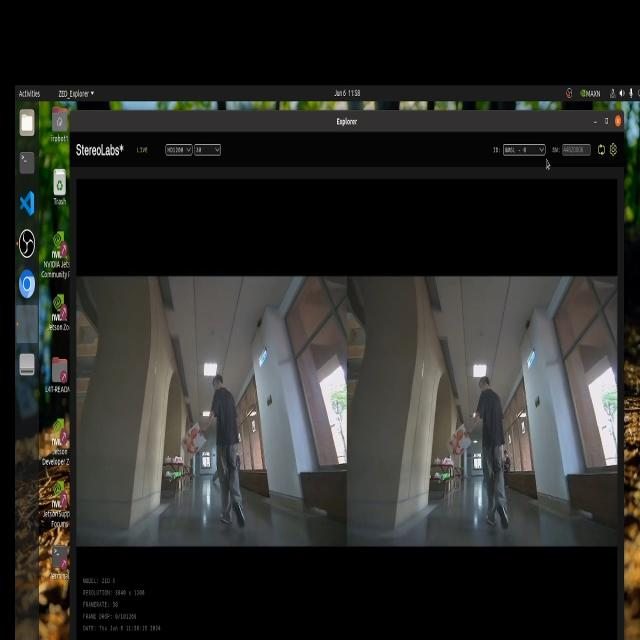red: (444, 425, 470, 465), (183, 425, 203, 460)
